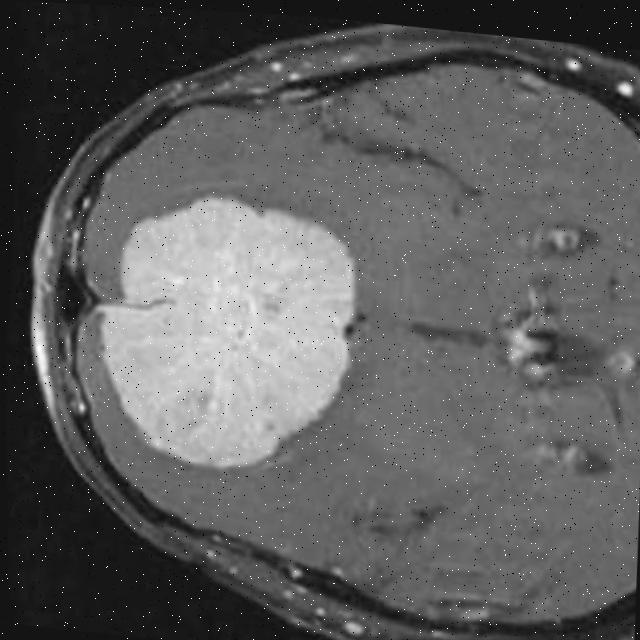Meningioma: (89, 183, 365, 482)
